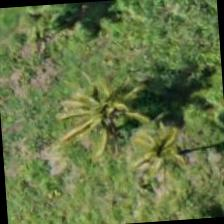Kelapa_Sawit: (100, 105, 196, 202), (86, 104, 182, 200)
